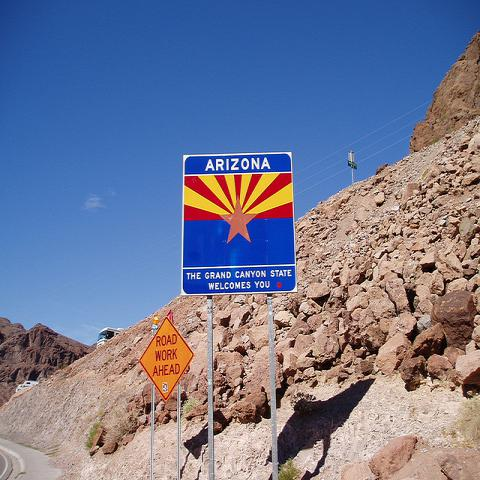bus: (97, 327, 124, 348)
